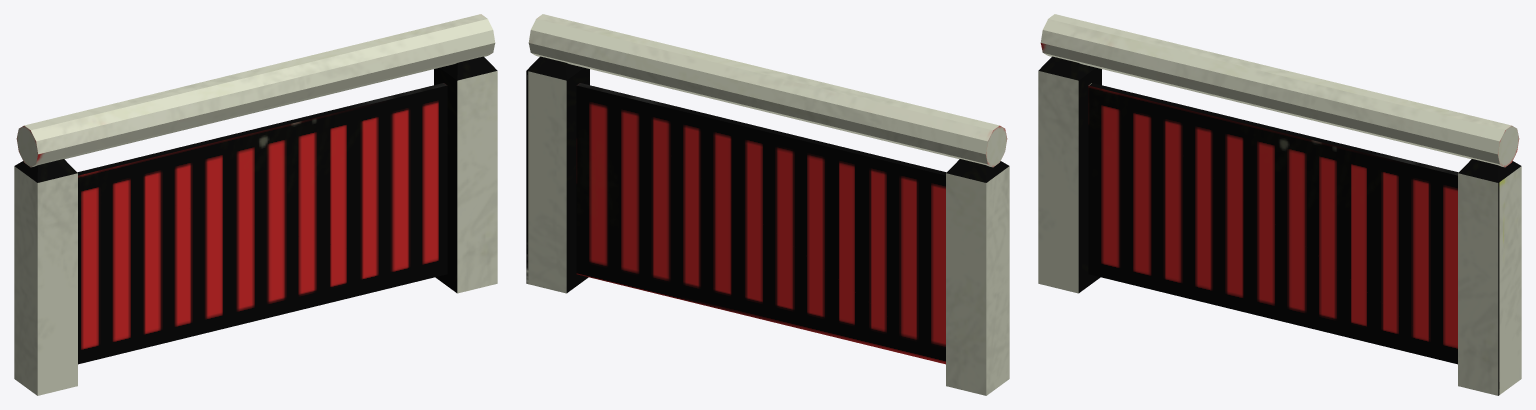
File: PierAssets_PierRail.fbx
The picture shows the model from 3 angles, left to right: view 1: azimuth 30°, elevation 25°; view 2: azimuth 150°, elevation 25°; view 3: azimuth 330°, elevation 25°; orthographic projection.
Visible parts, largest first — view 1: PierRail; view 2: PierRail; view 3: PierRail.
Part boxes in pixels (x1,y1,x2,y2): PierRail: (14, 14, 497, 395); PierRail: (526, 14, 1009, 395); PierRail: (1038, 14, 1521, 395).
Bounding box in the file's own units: 329 × 177 × 28.85.
Materials: 1 (1 with a texture image).
